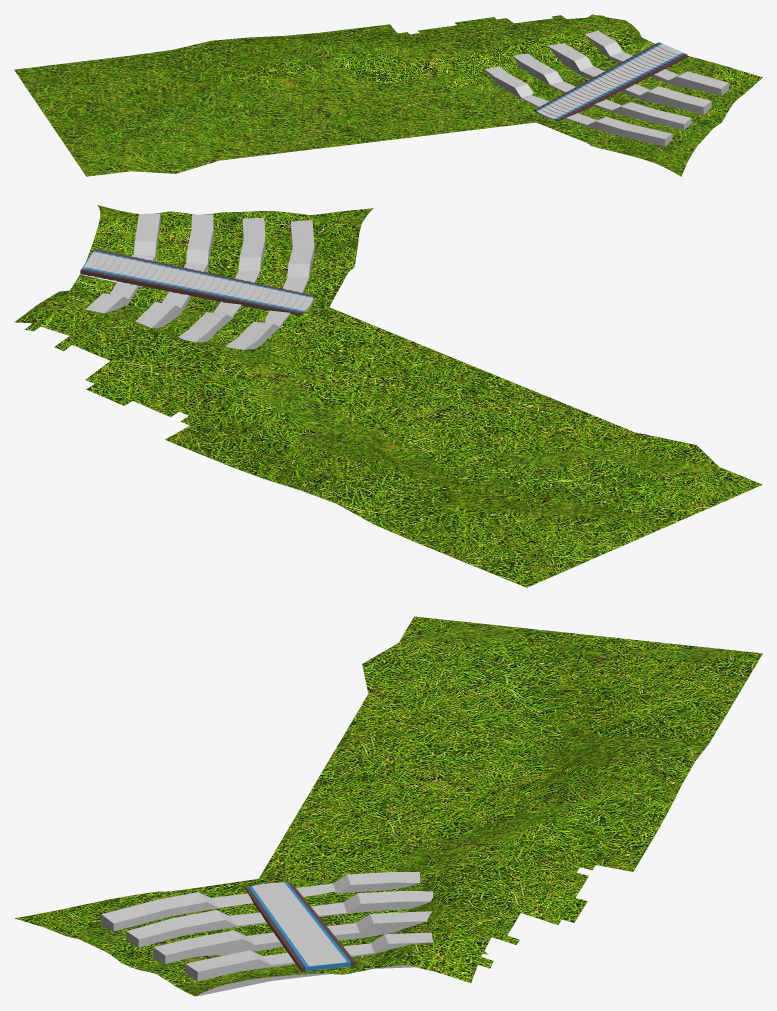
Rendered from WaterSide1.fbx.
The picture shows the model from 3 angles, top to bottom: view 1: azimuth 30°, elevation 25°; view 2: azimuth 150°, elevation 25°; view 3: azimuth 270°, elevation 25°; orthographic projection. The views are drawn at different scales.
Parts seen in each view (by area): view 1: Plane002, Object006, Box006; view 2: Plane002, Object006, Box006; view 3: Plane002, Object006, Box006.
Boxes of the visible parts, x1,y1,x2,y2 form: Plane002: [14, 14, 762, 176]; Object006: [485, 30, 728, 146]; Box006: [534, 42, 687, 121]; Plane002: [14, 205, 762, 587]; Object006: [85, 213, 314, 350]; Box006: [80, 249, 313, 315]; Plane002: [15, 616, 762, 996]; Object006: [101, 872, 433, 996]; Box006: [245, 882, 355, 971].
Size of the model in its own units: 42.32 by 1.83 by 33.72.
